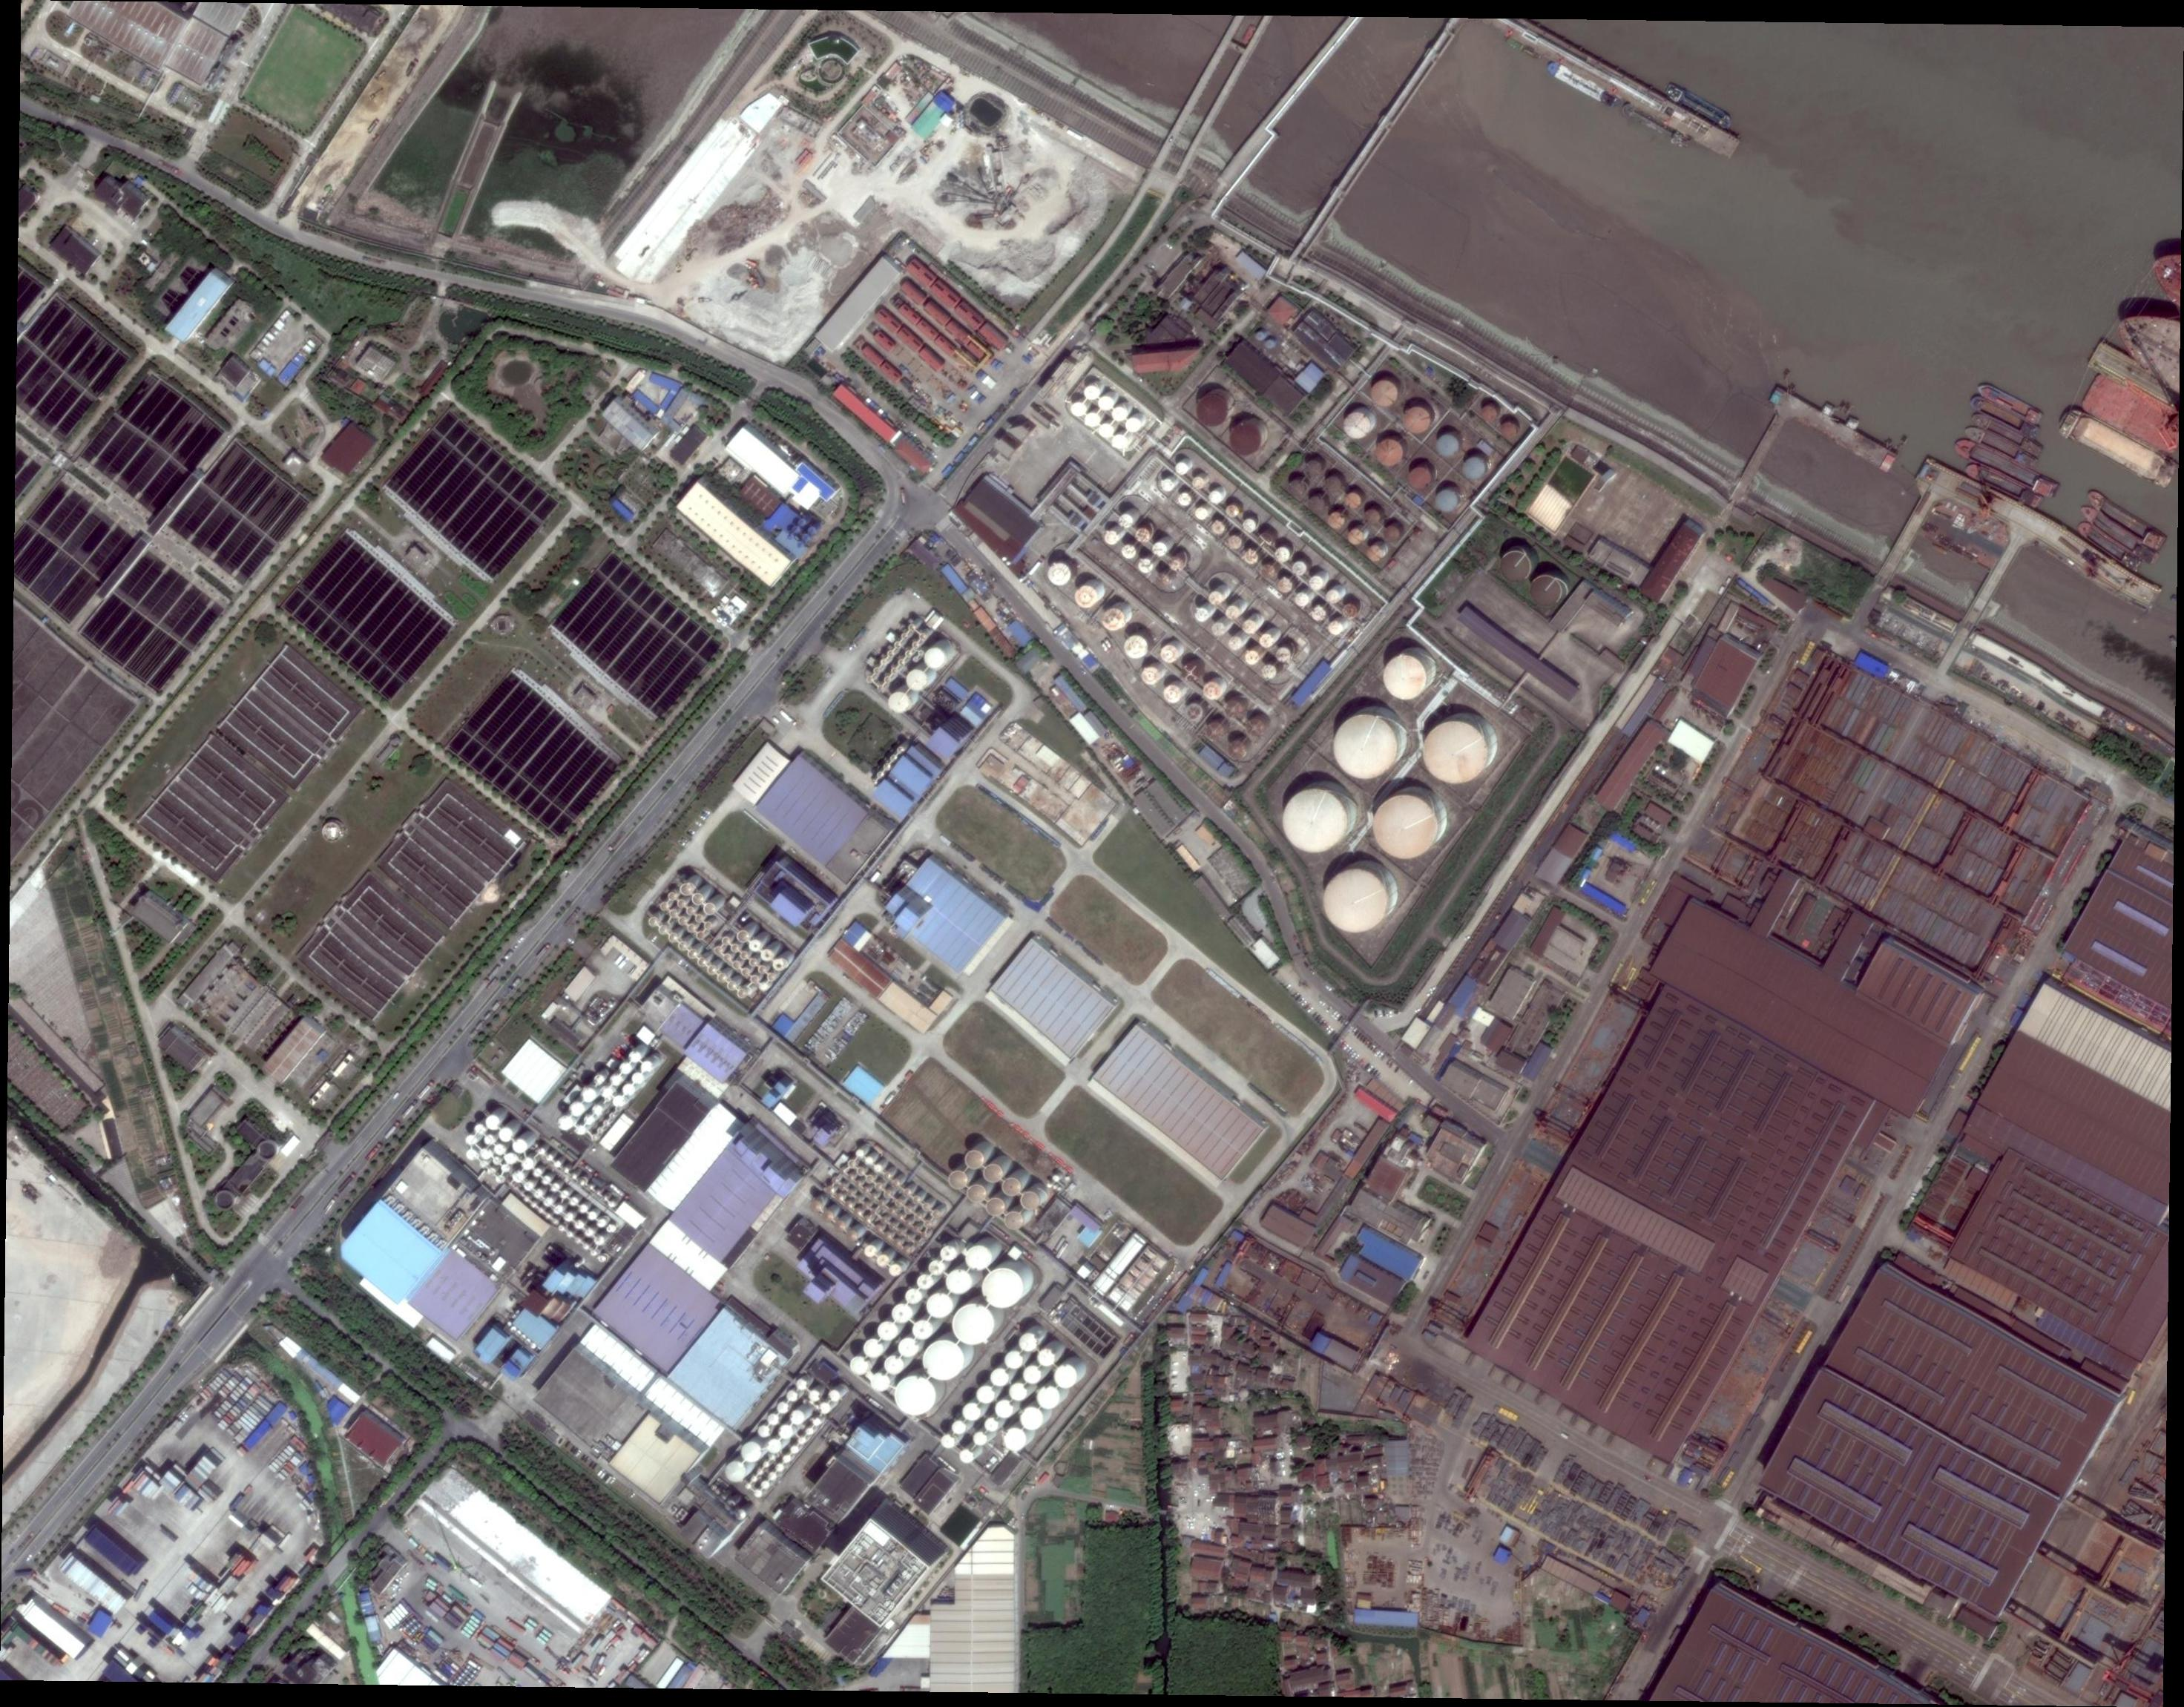harbor: (1769, 385, 1897, 473)
ship: (2056, 406, 2179, 491), (1952, 434, 2062, 500), (2079, 502, 2161, 567), (2085, 489, 2166, 551), (1962, 459, 2044, 512), (2074, 519, 2143, 574), (1969, 409, 2046, 459), (1546, 60, 1620, 110), (1663, 82, 1737, 131), (1620, 99, 1693, 149), (1964, 424, 2039, 470), (1969, 394, 2042, 440), (1975, 379, 2044, 424)
